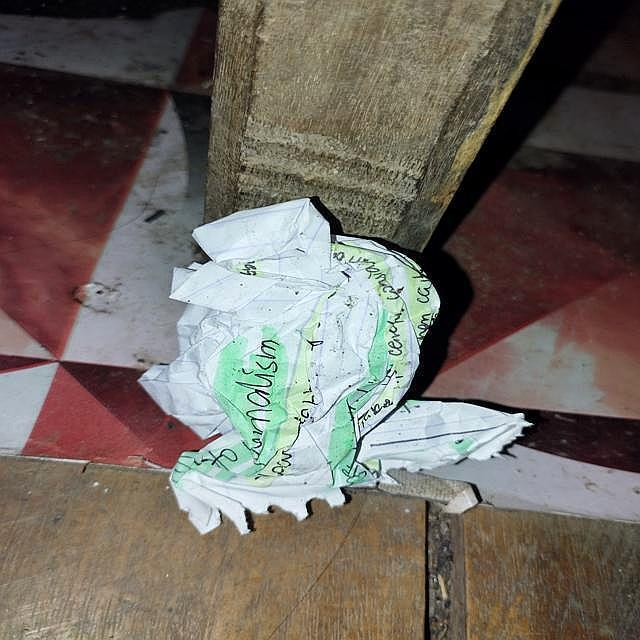Biodegradable: (147, 203, 517, 531)
